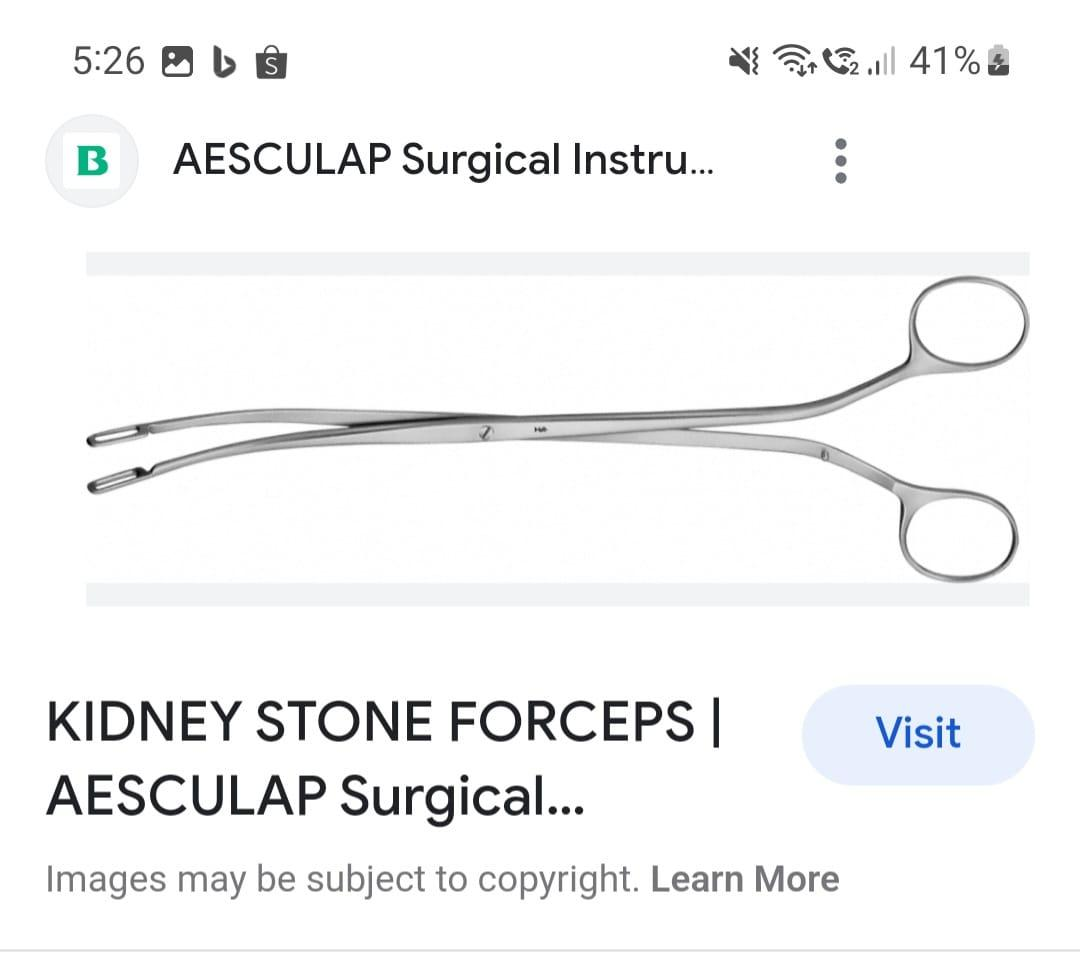Desjardin Forceps: (73, 263, 1040, 600)
